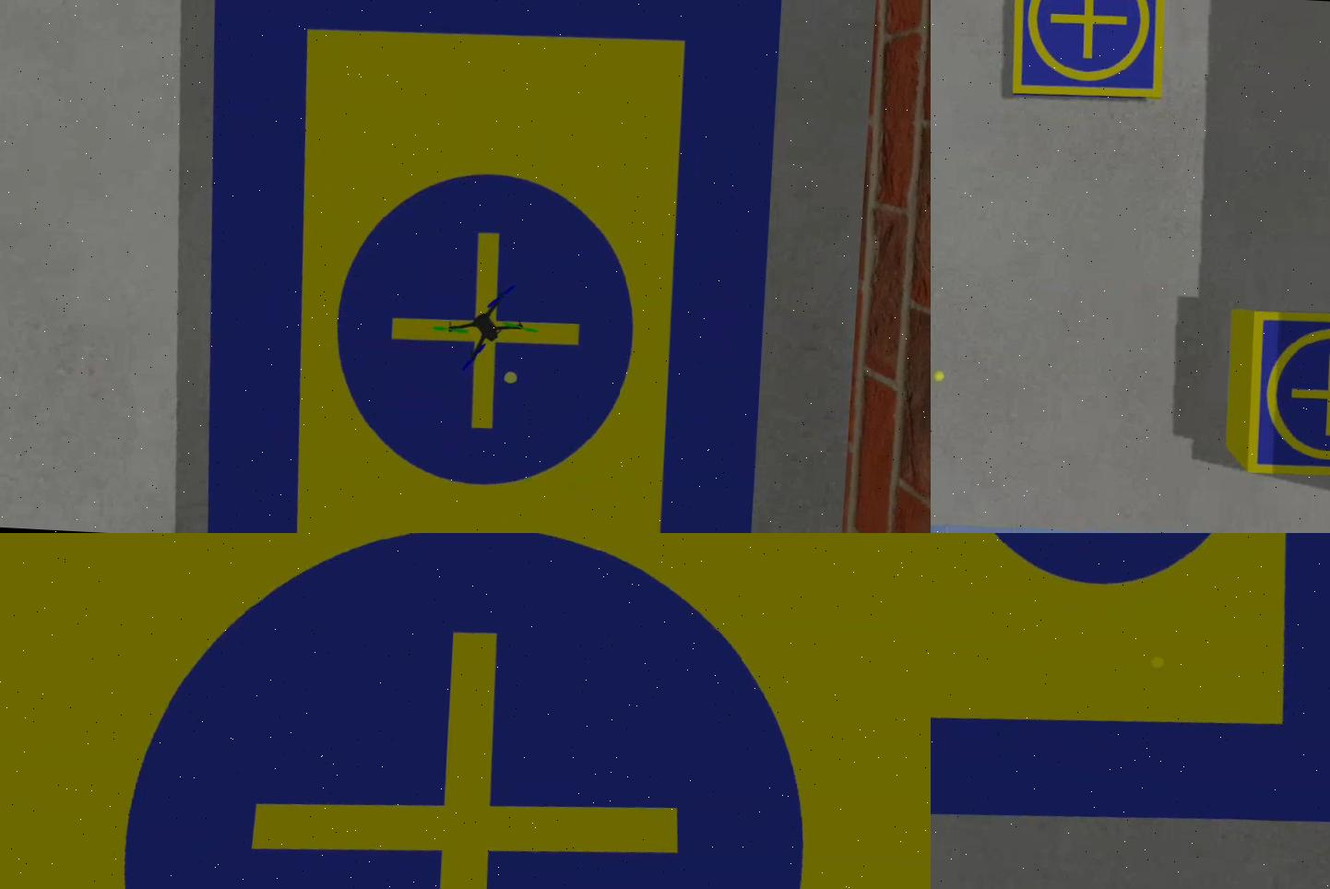large_base: (1, 534, 932, 889), (183, 1, 783, 534), (932, 534, 1330, 838)
small_base: (1241, 307, 1330, 486), (1011, 1, 1168, 101)
